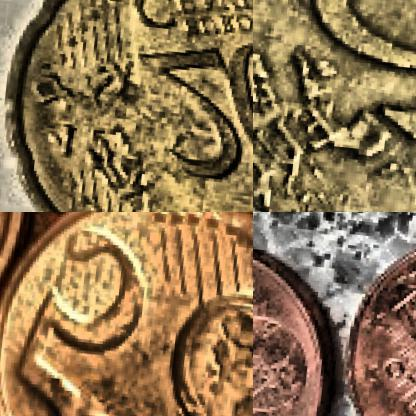coin: (0, 0, 252, 211), (0, 212, 252, 415), (253, 0, 415, 211), (253, 218, 344, 415)
